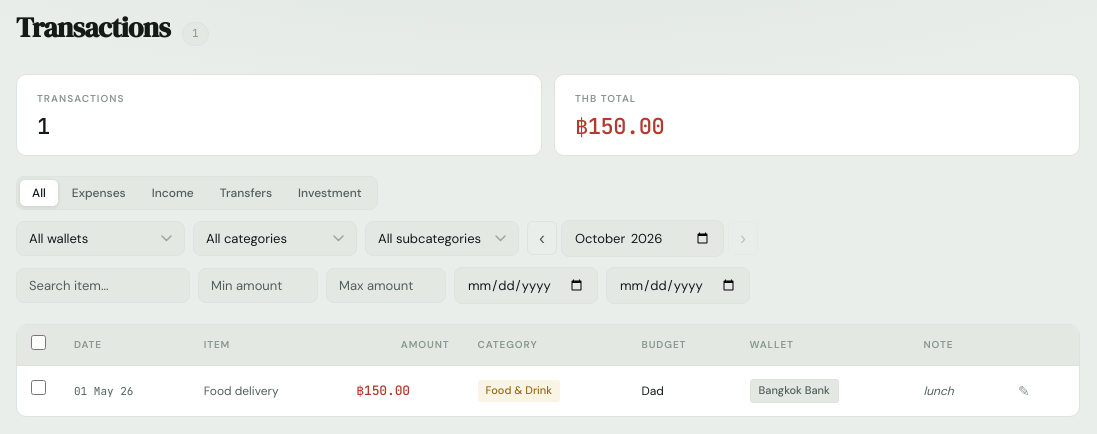
Test case: clears a budget line assignment back to Auto
Double-click the text "Dad".
double_click(653, 391)  # box [642,383,664,399]
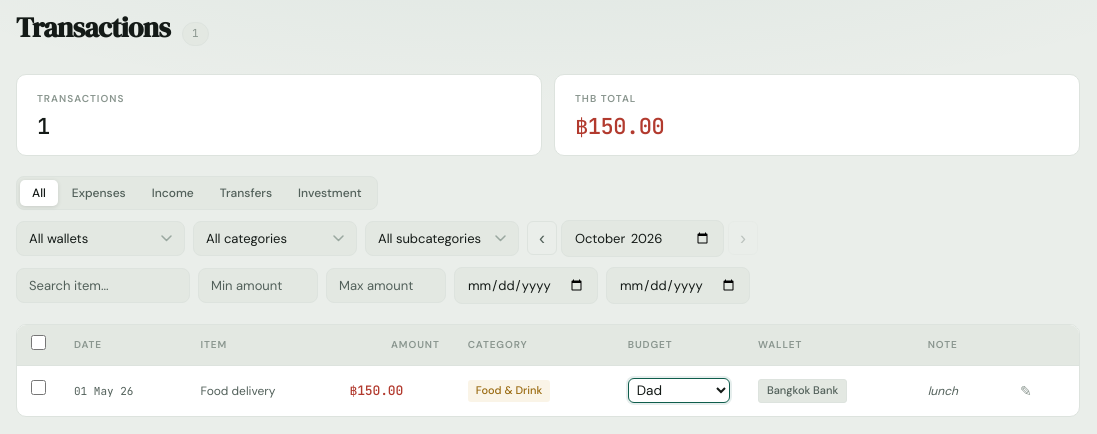
Select "Auto" in the 4th dropdown at (679, 391), box [628,378,730,404]
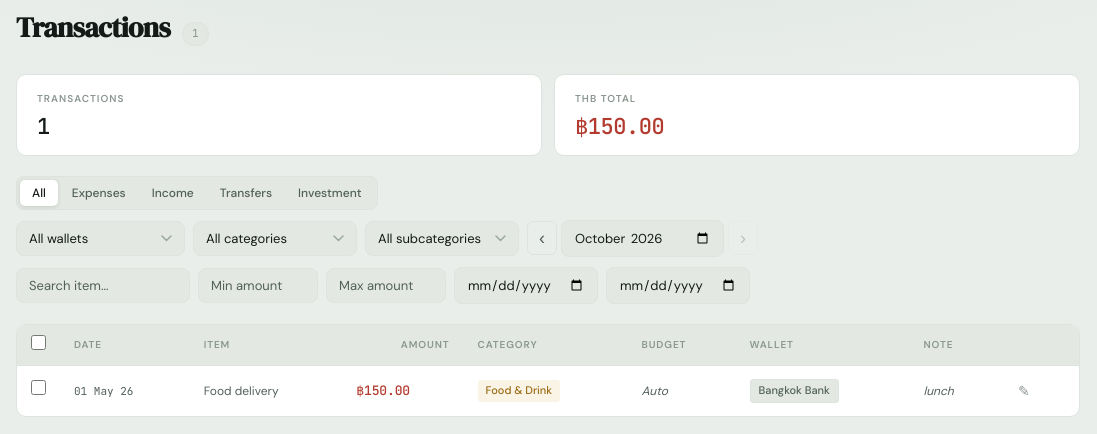
expect the text "Auto" is shown: met, box [642,383,668,399]
